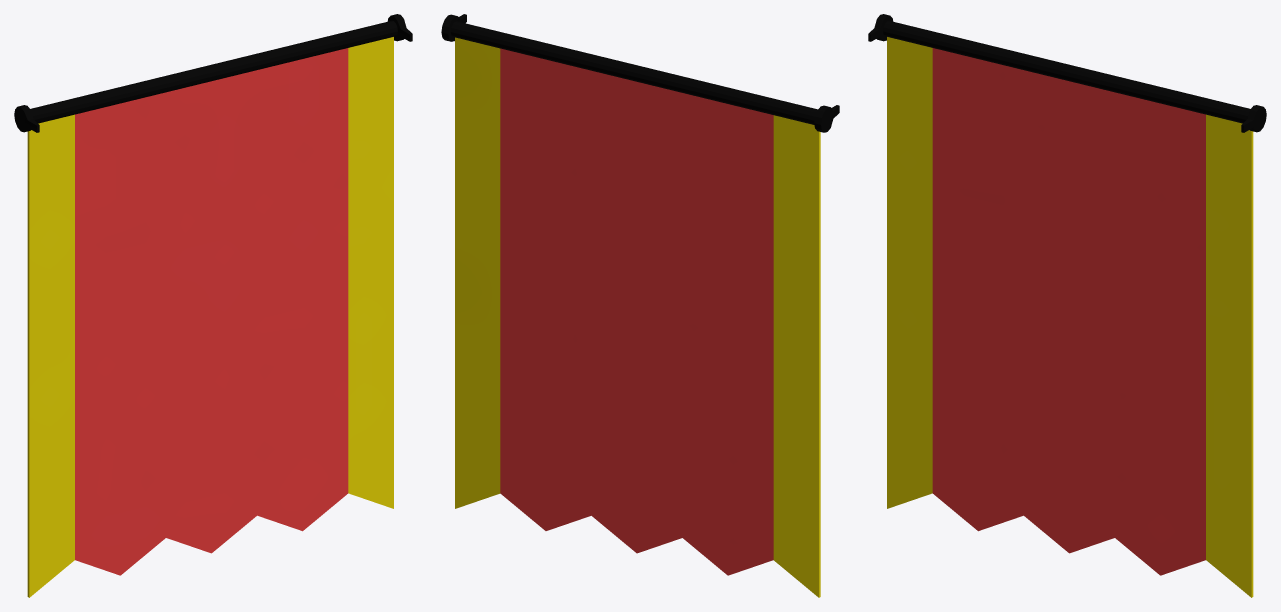
The model's file is Banner_4.fbx.
The picture shows the model from 3 angles, left to right: view 1: azimuth 30°, elevation 25°; view 2: azimuth 150°, elevation 25°; view 3: azimuth 330°, elevation 25°; orthographic projection.
Visible parts, largest first — view 1: Banner 4; view 2: Banner 4; view 3: Banner 4.
Part boxes in pixels (bbox=[...]): Banner 4: bbox=[14, 14, 412, 597]; Banner 4: bbox=[441, 14, 839, 597]; Banner 4: bbox=[868, 14, 1266, 597].
Size of the model in its own units: 115 by 142 by 10.81.
